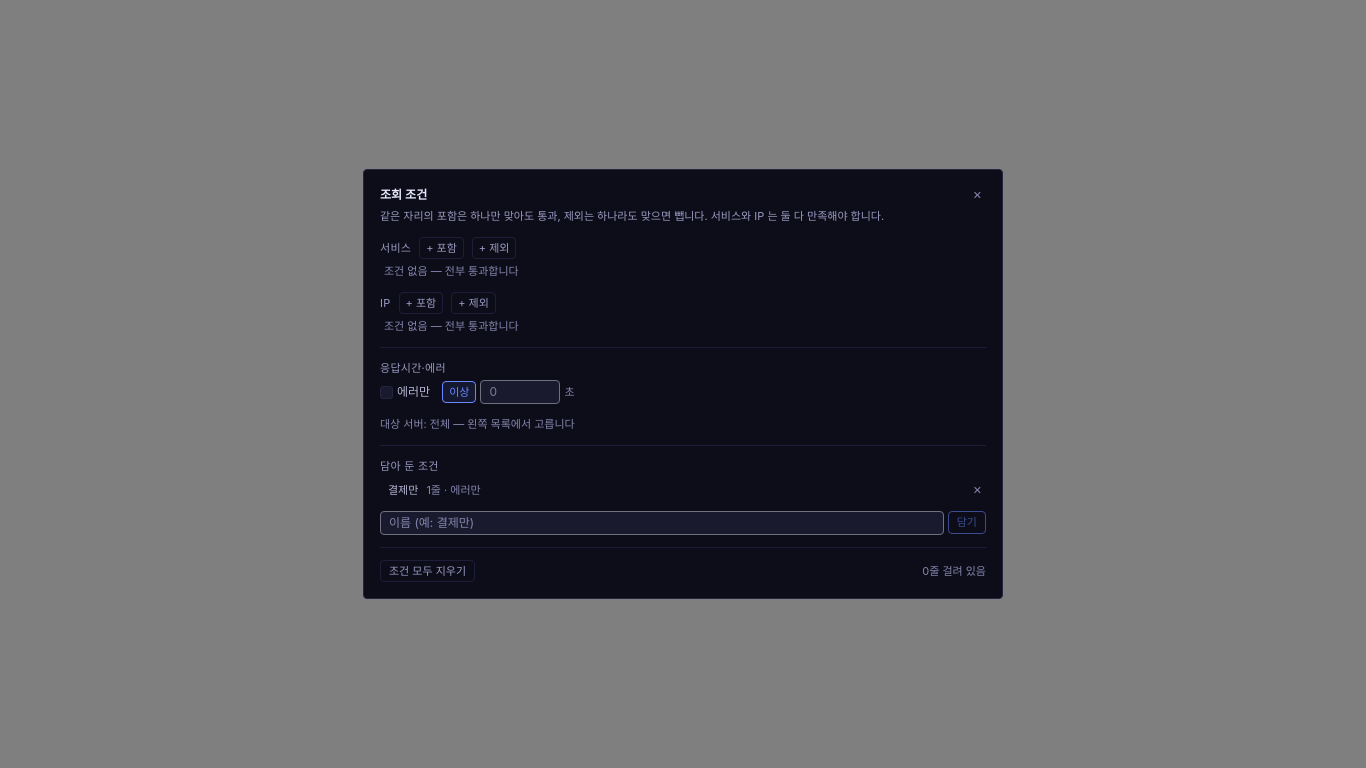
Test: FilterDialog — 담아 두기 › 같은 이름이면 덮어쓰기라고 말한다
Type "결제만" into the field with placeholder "이름 (예: 결제만)".
click(662, 522); type("결제만")  # box x1=380 y1=510 x2=944 y2=534
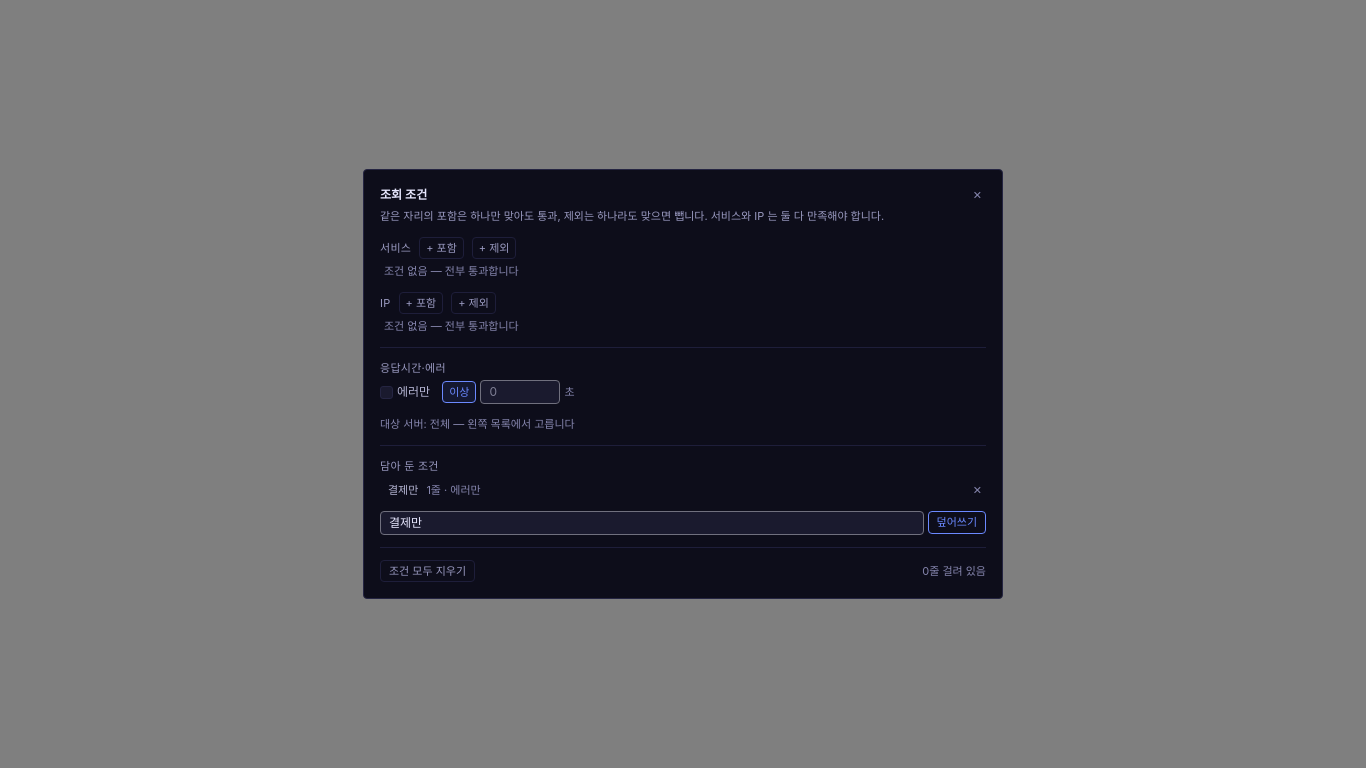
Check: the button "덮어쓰기" is shown, box x1=928 y1=511 x2=986 y2=534
